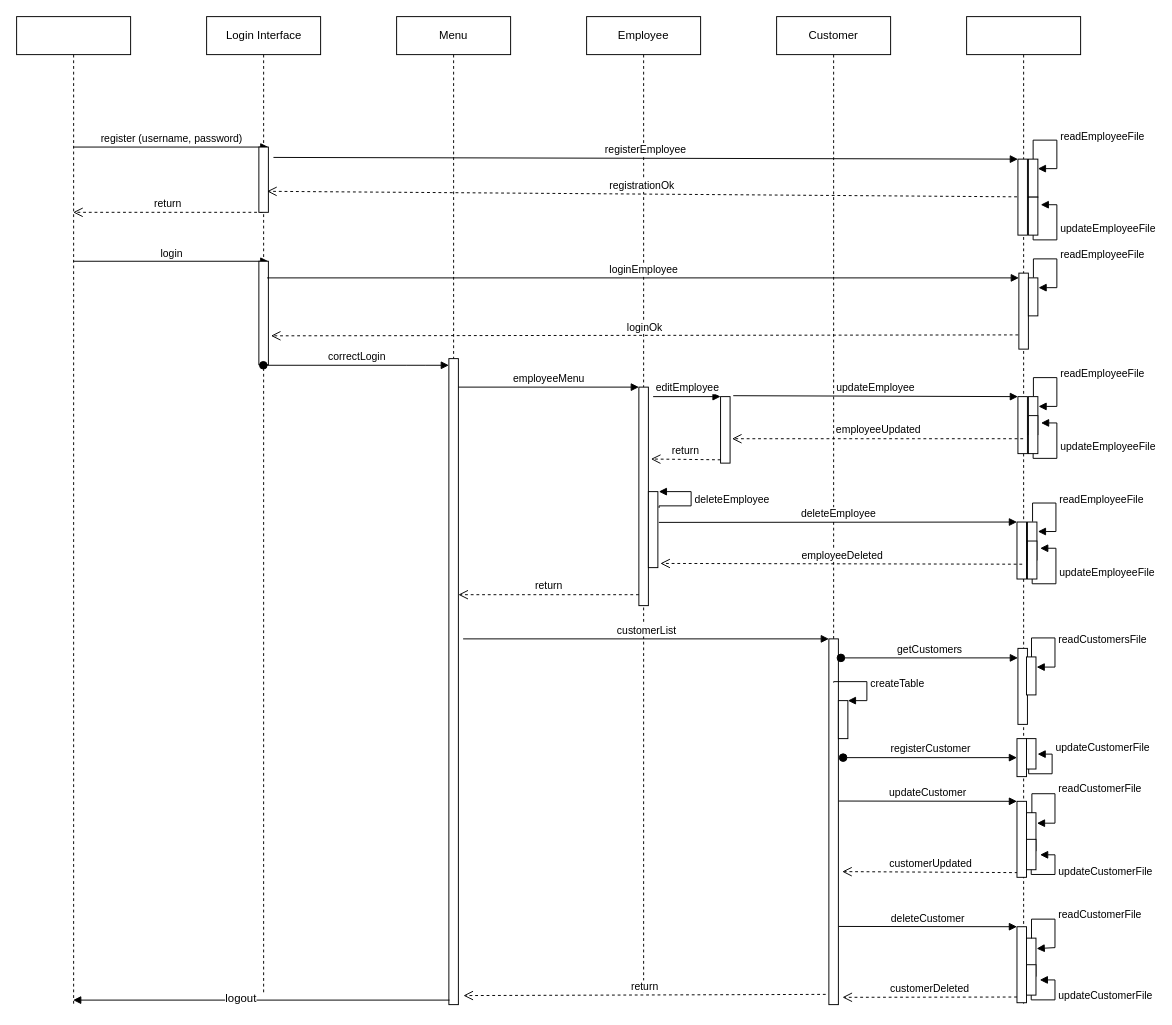
Image size: 1172x1025. Some labels were removed from this diagram. Each missing label, with the box of its shape:
Server: (966, 16, 1081, 1005)
USER: (16, 16, 131, 1005)
